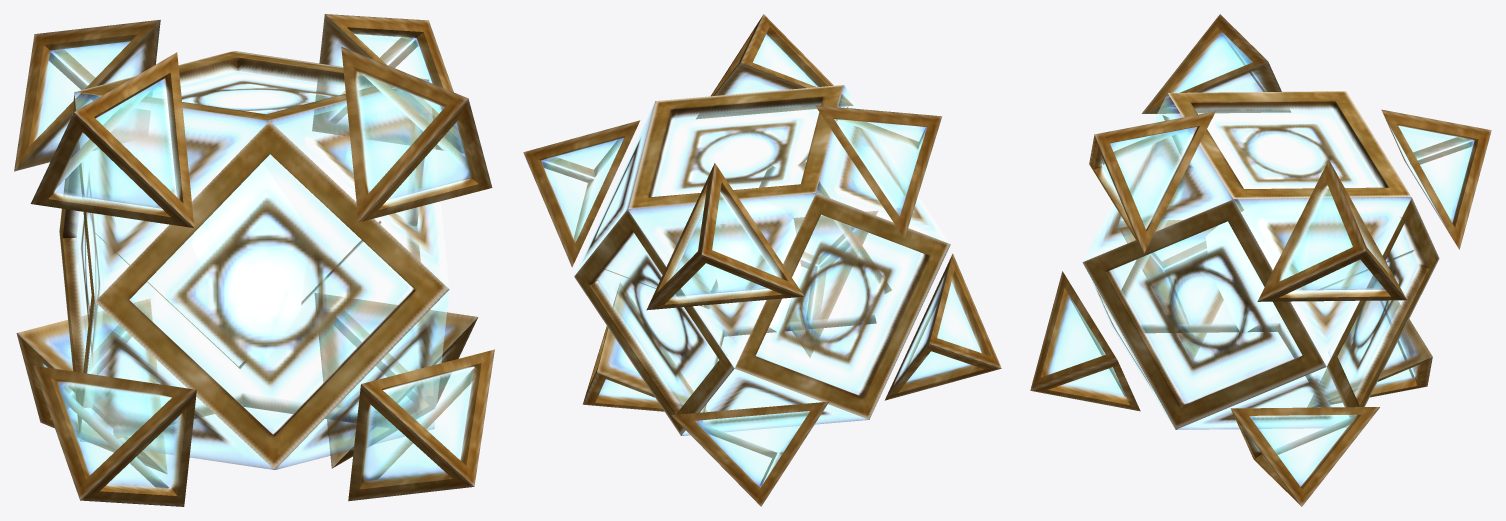
Rendered from jedi-holocron-128.glb.
The picture shows the model from 3 angles, left to right: view 1: azimuth 30°, elevation 25°; view 2: azimuth 150°, elevation 25°; view 3: azimuth 270°, elevation 25°; orthographic projection. The views are drawn at different scales.
Parts seen in each view (by area): view 1: SM_Jedi_Holocron; view 2: SM_Jedi_Holocron; view 3: SM_Jedi_Holocron.
Boxes of the visible parts, x1=… form: SM_Jedi_Holocron: x1=14, y1=14, x2=494, y2=506; SM_Jedi_Holocron: x1=523, y1=14, x2=1001, y2=506; SM_Jedi_Holocron: x1=1030, y1=14, x2=1491, y2=506.
Bounding box in the file's own units: 0.0994 × 0.0872 × 0.1061.
2 materials, 2 textured.
